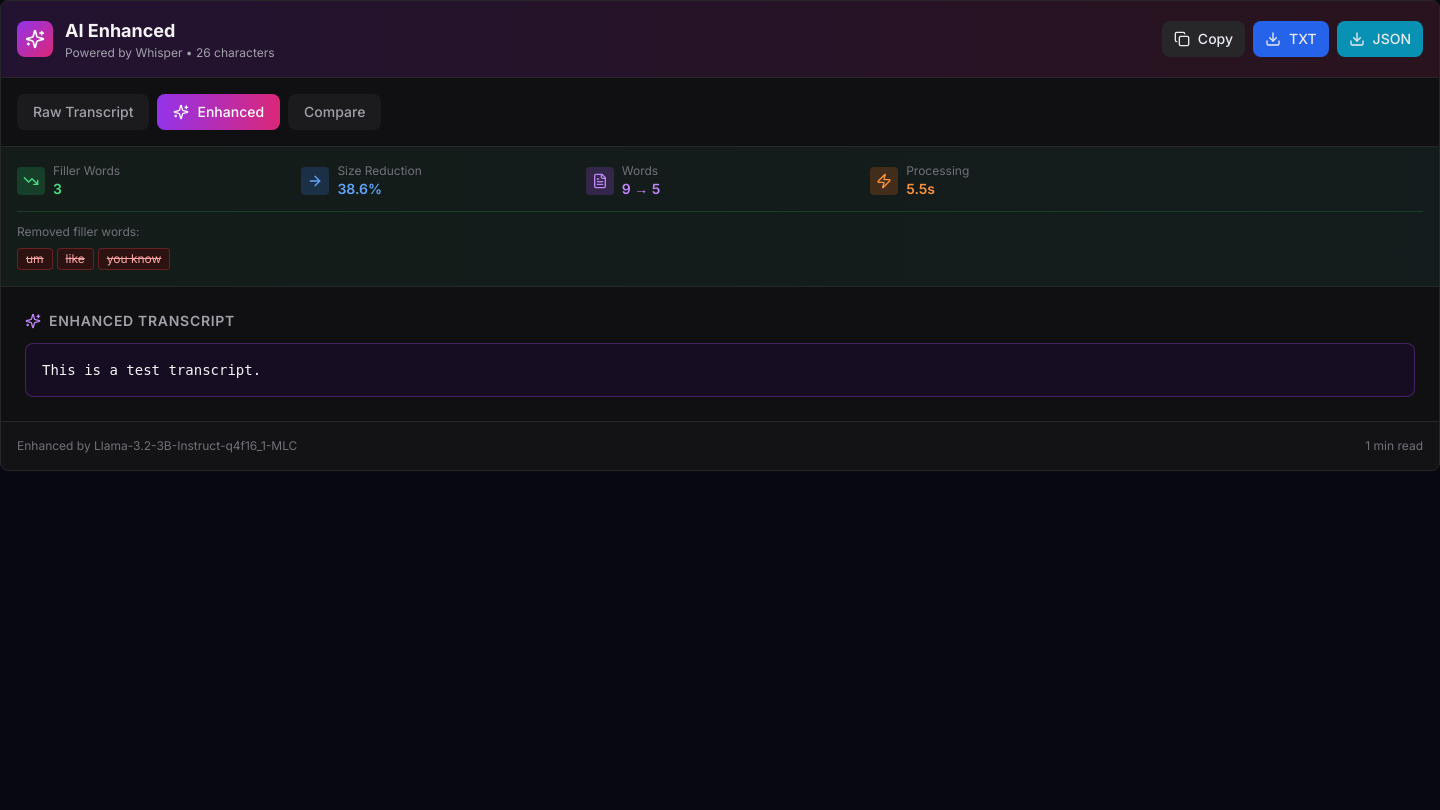
EnhancedTranscriptionViewer › View Mode Toggle › should switch to raw view when clicked
Click the button "Raw Transcript": click(83, 112) [17,94,150,130]
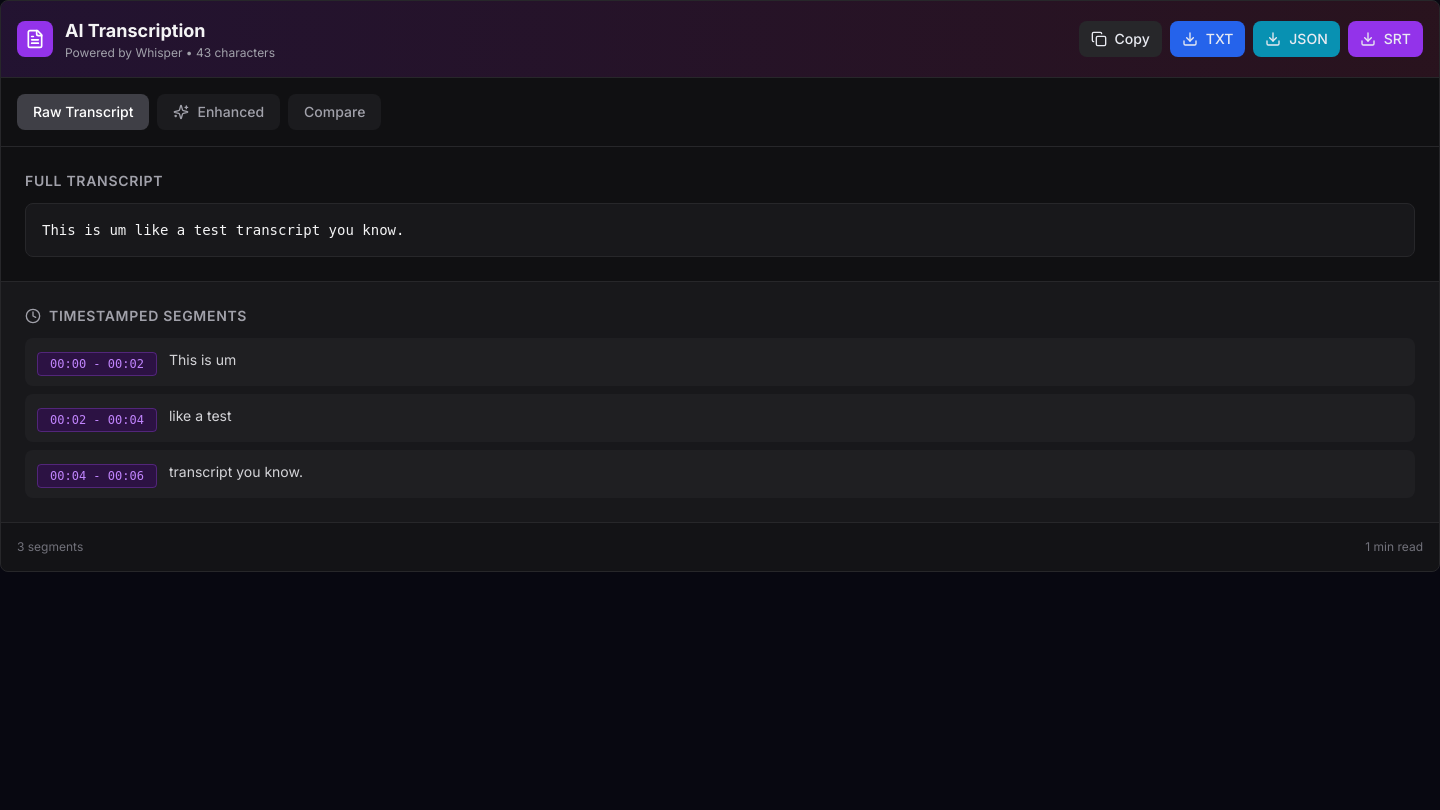
Now the heading "AI Transcription" is shown, box [65,20,206,41]
Now the text "This is um like a test transcript you know." is shown, box [42,222,404,238]
